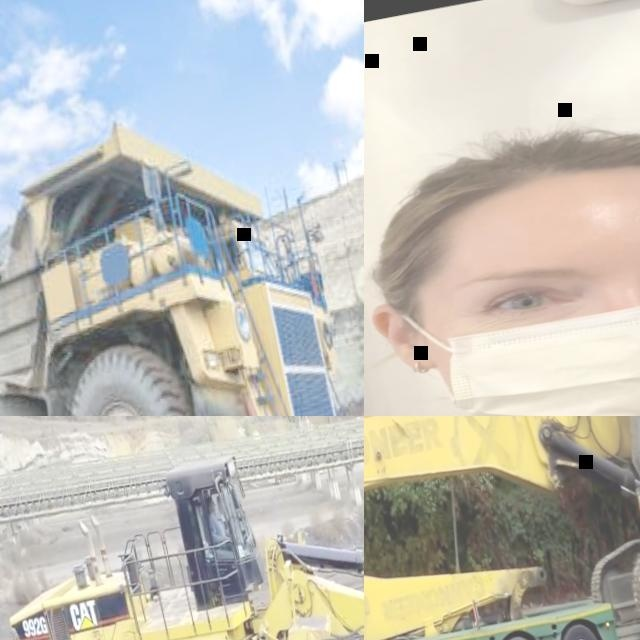Mask: (399, 234, 640, 416)
NO-Hardhat: (369, 94, 640, 257), (207, 497, 216, 508)
NO-Mask: (212, 506, 218, 512)
NO-Safety Vest: (209, 512, 227, 541)
Person: (364, 67, 640, 416), (206, 494, 233, 547)
machinery: (0, 76, 364, 416), (0, 416, 364, 640), (364, 416, 640, 640), (546, 416, 640, 640)
